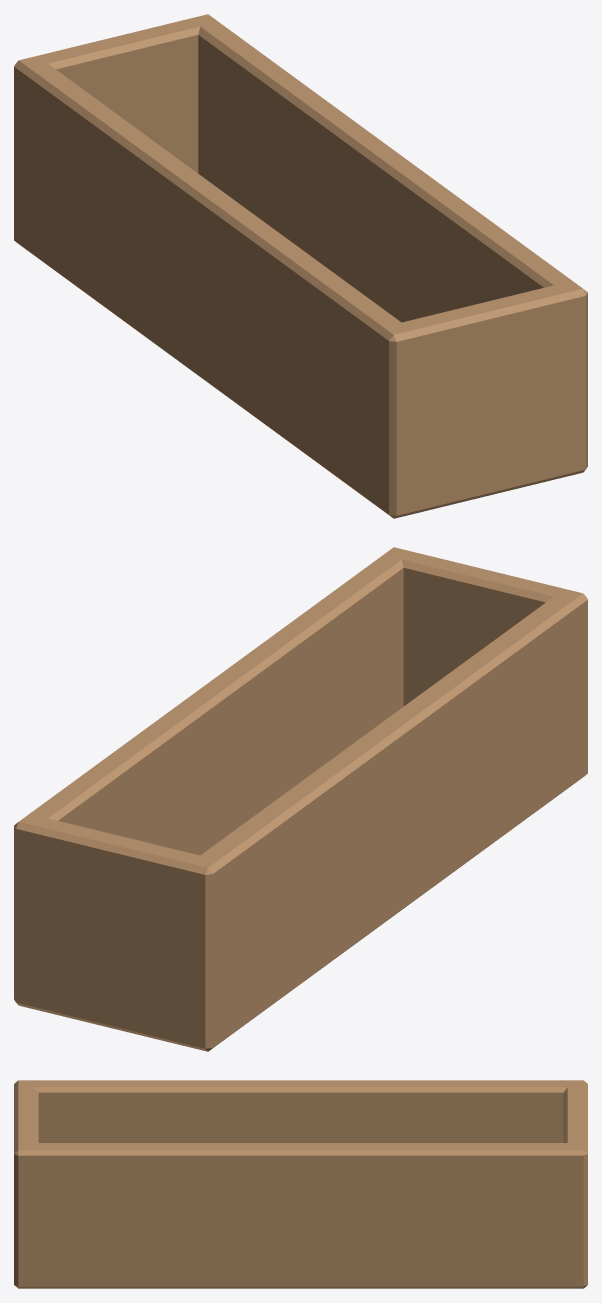
Rendered from Trough B-col.glb.
3 views of the same model, one above another, from view 1: azimuth 30°, elevation 25°; view 2: azimuth 150°, elevation 25°; view 3: azimuth 270°, elevation 25° (orthographic). The views are drawn at different scales.
Parts seen in each view (by area): view 1: Trough B-col; view 2: Trough B-col; view 3: Trough B-col.
Boxes of the visible parts, box(x1,y1,x2,y2) form: Trough B-col: box(14, 14, 587, 518); Trough B-col: box(14, 547, 587, 1051); Trough B-col: box(14, 1080, 587, 1288).
Bounding box in the file's own units: 0.4527 × 0.4 × 1.5.
